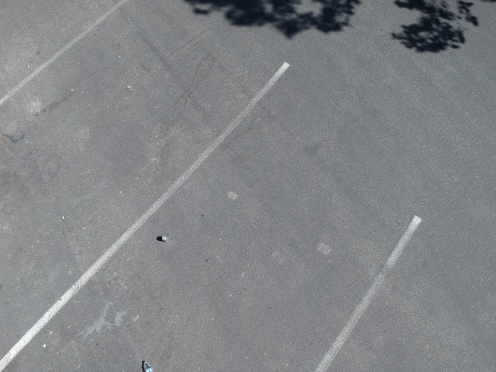can: (157, 232, 172, 246)
